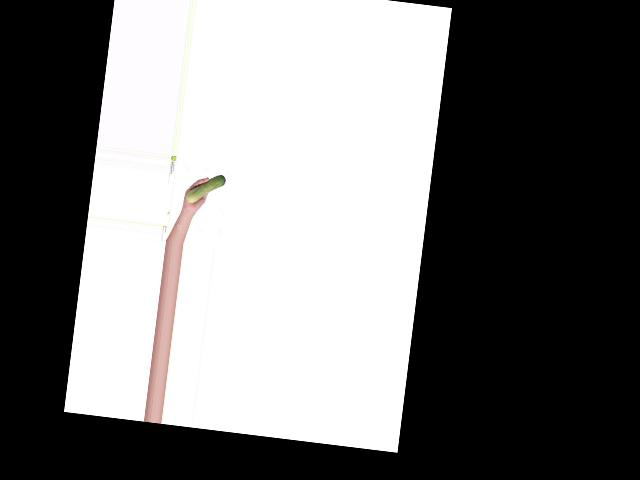cucumber: (185, 171, 225, 206)
